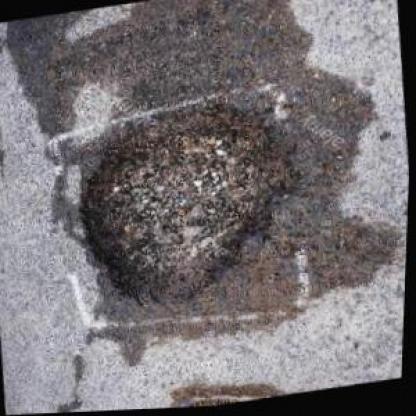pothole: (61, 89, 311, 320)
